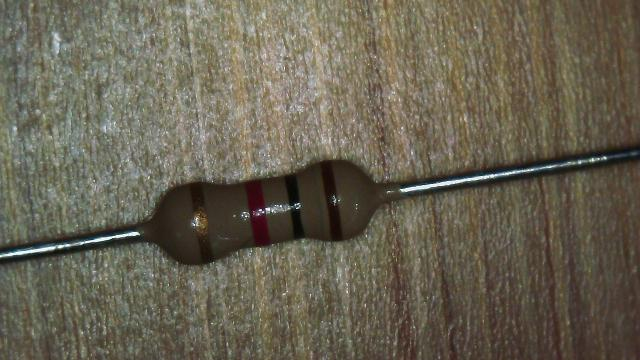black: (284, 174, 302, 240)
brown: (320, 160, 343, 240)
gold: (190, 183, 212, 262)
red: (246, 179, 268, 246)
resistor: (132, 148, 405, 278)
